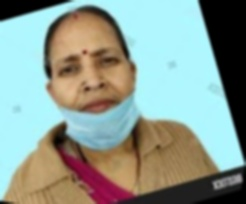mask_weared_incorrect: (43, 11, 136, 147)
